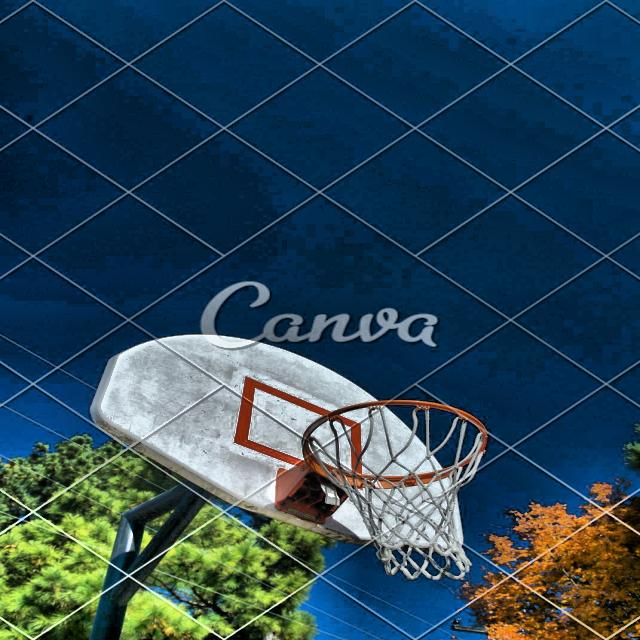rim: (307, 400, 493, 580)
